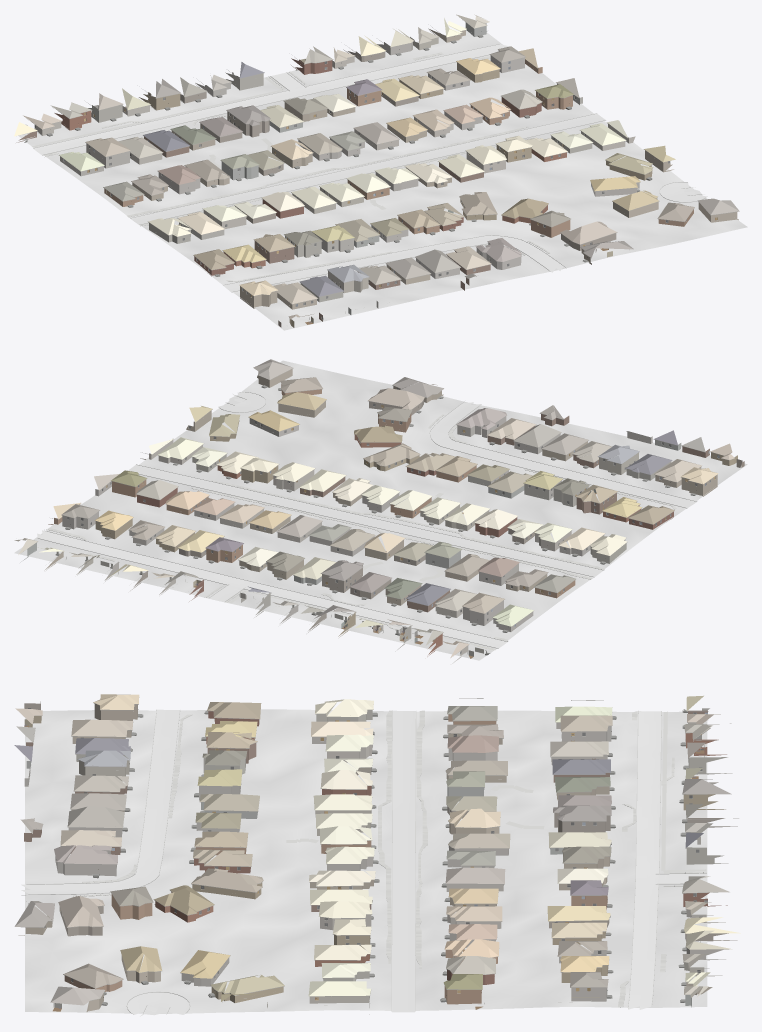
3 renders of one model, top to bottom at view 1: azimuth 30°, elevation 25°; view 2: azimuth 150°, elevation 25°; view 3: azimuth 270°, elevation 25°, orthographic. The views are drawn at different scales.
Visible parts, largest first — view 1: ground, roof, wall, concrete, wall_stucco, detail, wall_stone, walk, curb, glass; view 2: ground, roof, concrete, wall, wall_stucco, detail, wall_stone, walk, curb, glass; view 3: ground, roof, concrete, wall, wall_stucco, detail, walk, wall_stone, curb, glass.
Part boxes in pixels (x1,y1,x2,y2): ground: (18,30,747,330); roof: (14,14,739,319); wall: (16,49,693,327); concrete: (33,44,706,291); wall_stucco: (27,22,738,314); detail: (23,22,739,319); wall_stone: (60,42,639,308); walk: (32,52,550,281); curb: (33,44,707,292); glass: (34,61,686,319); ground: (14,360,747,660); roof: (14,359,734,658); concrete: (37,392,696,648); wall: (48,384,742,656); wall_stucco: (20,369,701,663); detail: (23,368,734,655); wall_stone: (62,416,652,631); walk: (47,414,676,649); curb: (38,392,696,648); glass: (67,388,710,653); ground: (25,709,707,1013); roof: (14,694,740,1005); concrete: (21,709,706,1016); wall: (18,701,737,1006); wall_stucco: (26,710,732,1014); detail: (21,697,738,1008); walk: (73,710,706,1007); wall_stone: (24,722,725,1001); curb: (21,709,706,1014); glass: (28,708,707,981).
Size of the model in its own units: 260 by 15.17 by 269.
